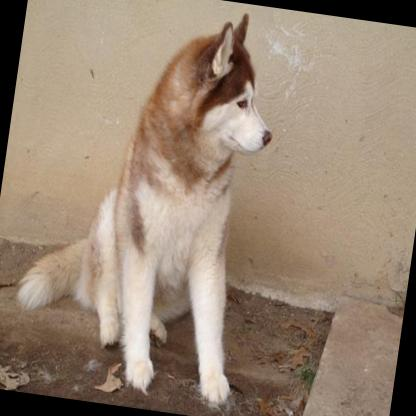Siberian_husky: (5, 0, 288, 406)
